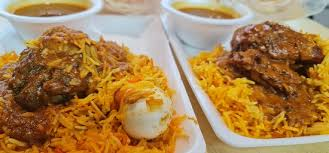briyani: (3, 22, 329, 146)
